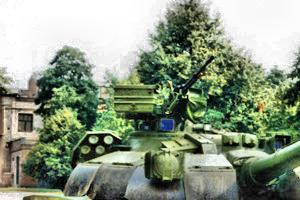tanks: (23, 58, 300, 200)
